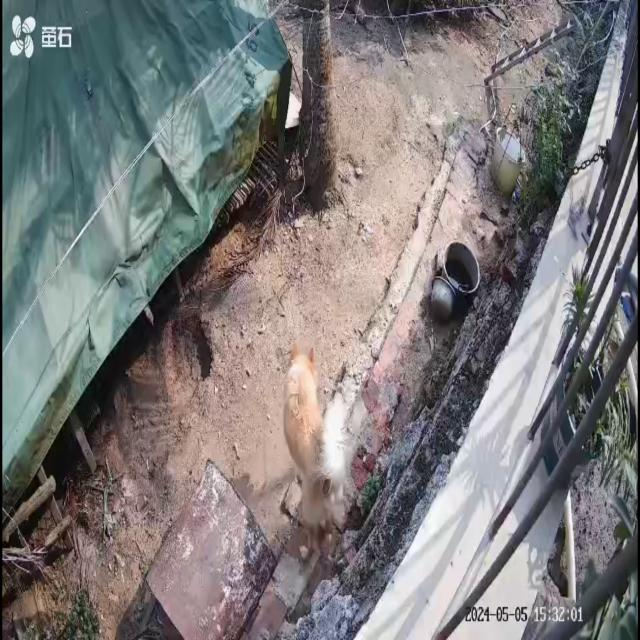dog: (283, 341, 348, 561)
